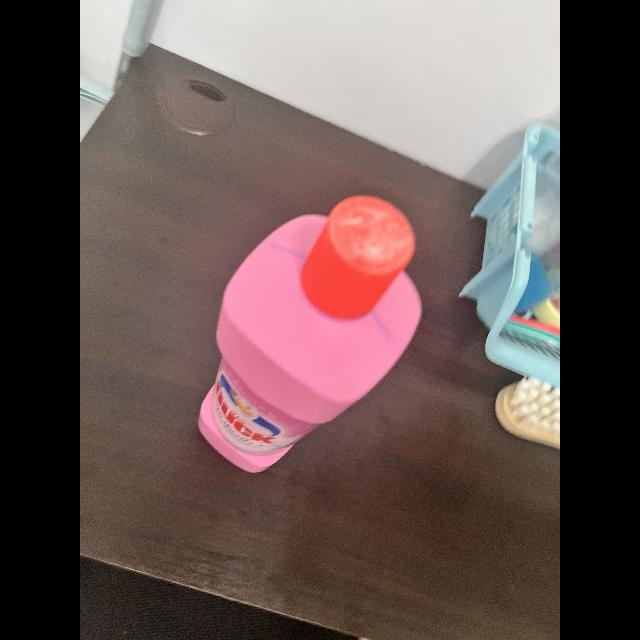chemical_plastic_bottle: (190, 197, 428, 479)
